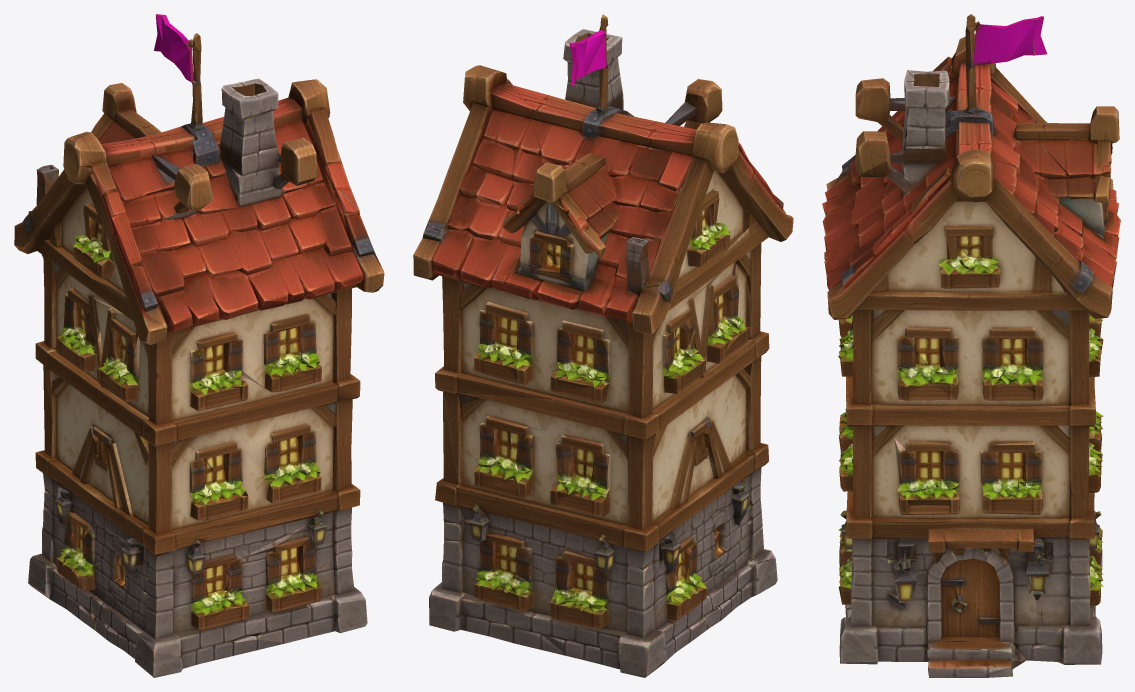
File: house3.glb
The picture shows the model from 3 angles, left to right: view 1: azimuth 30°, elevation 25°; view 2: azimuth 150°, elevation 25°; view 3: azimuth 270°, elevation 25°; orthographic projection. The views are drawn at different scales.
Parts seen in each view (by area): view 1: Mesh_0; view 2: Mesh_0; view 3: Mesh_0.
Part boxes in pixels (<box>): Mesh_0: <box>14,14,384,677</box>; Mesh_0: <box>413,14,793,677</box>; Mesh_0: <box>822,14,1120,677</box>.
Bounding box in the file's own units: 0.8968 × 1.9 × 0.8633.
1 material, 1 textured.
